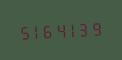five: (17, 22, 28, 41)
four: (53, 20, 64, 39)
nine: (89, 18, 100, 37)
one: (29, 21, 40, 41), (65, 19, 76, 39)
six: (41, 21, 52, 40)
three: (77, 19, 88, 38)
